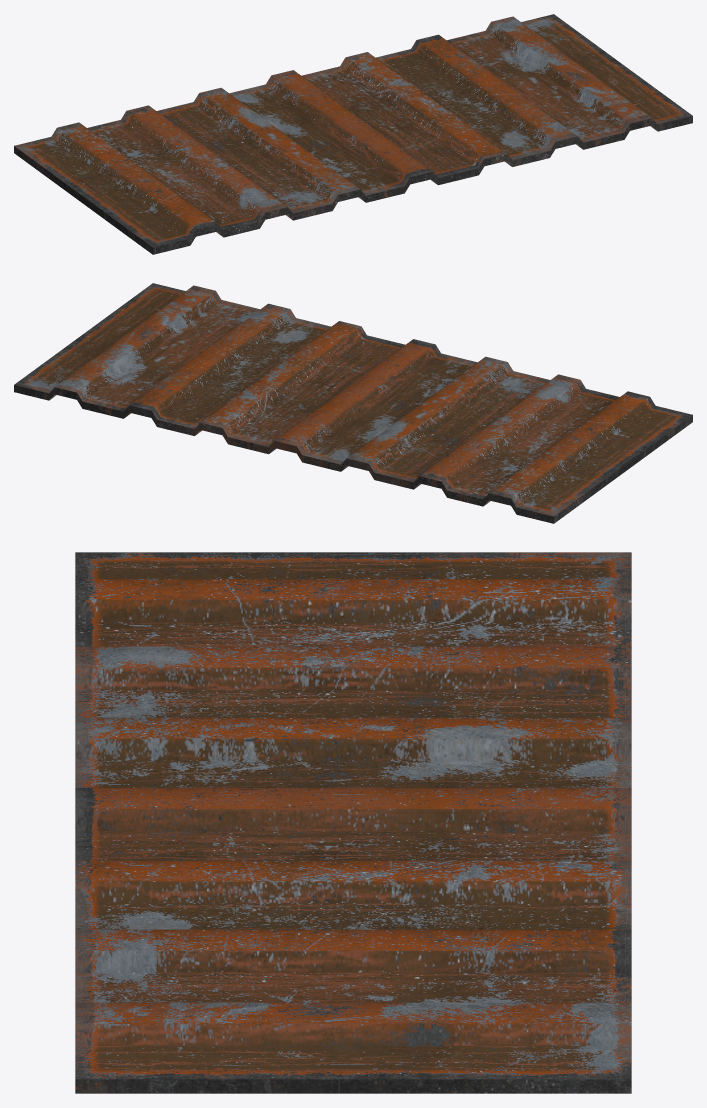
Rendered from Corrogated iron_01.fbx.
The picture shows the model from 3 angles, top to bottom: view 1: azimuth 30°, elevation 25°; view 2: azimuth 150°, elevation 25°; view 3: azimuth 270°, elevation 25°; orthographic projection. The views are drawn at different scales.
Parts seen in each view (by area): view 1: pCube1; view 2: pCube1; view 3: pCube1.
Part boxes in pixels (bbox=[...]): pCube1: bbox=[14, 14, 692, 254]; pCube1: bbox=[14, 283, 692, 523]; pCube1: bbox=[75, 552, 631, 1093].
Size of the model in its own units: 7.38 by 0.1947 by 3.29.
